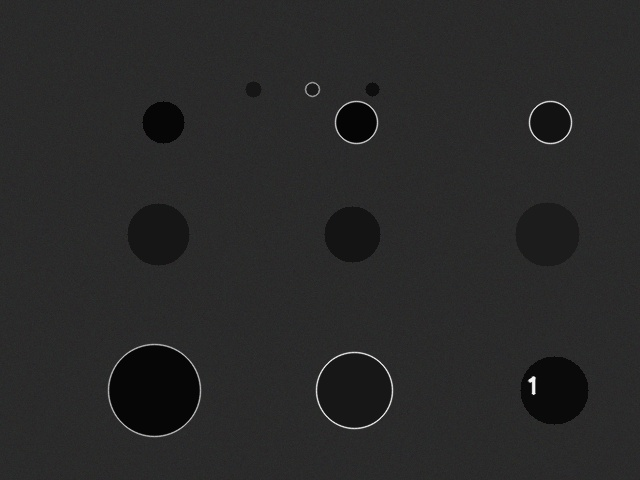hole: (108, 344, 200, 436), (316, 352, 392, 428), (520, 356, 588, 424), (515, 202, 579, 266), (127, 203, 189, 265), (324, 206, 380, 262), (142, 101, 184, 143), (335, 101, 377, 143), (529, 101, 571, 143), (245, 81, 261, 97), (305, 82, 319, 96), (365, 82, 379, 96)
